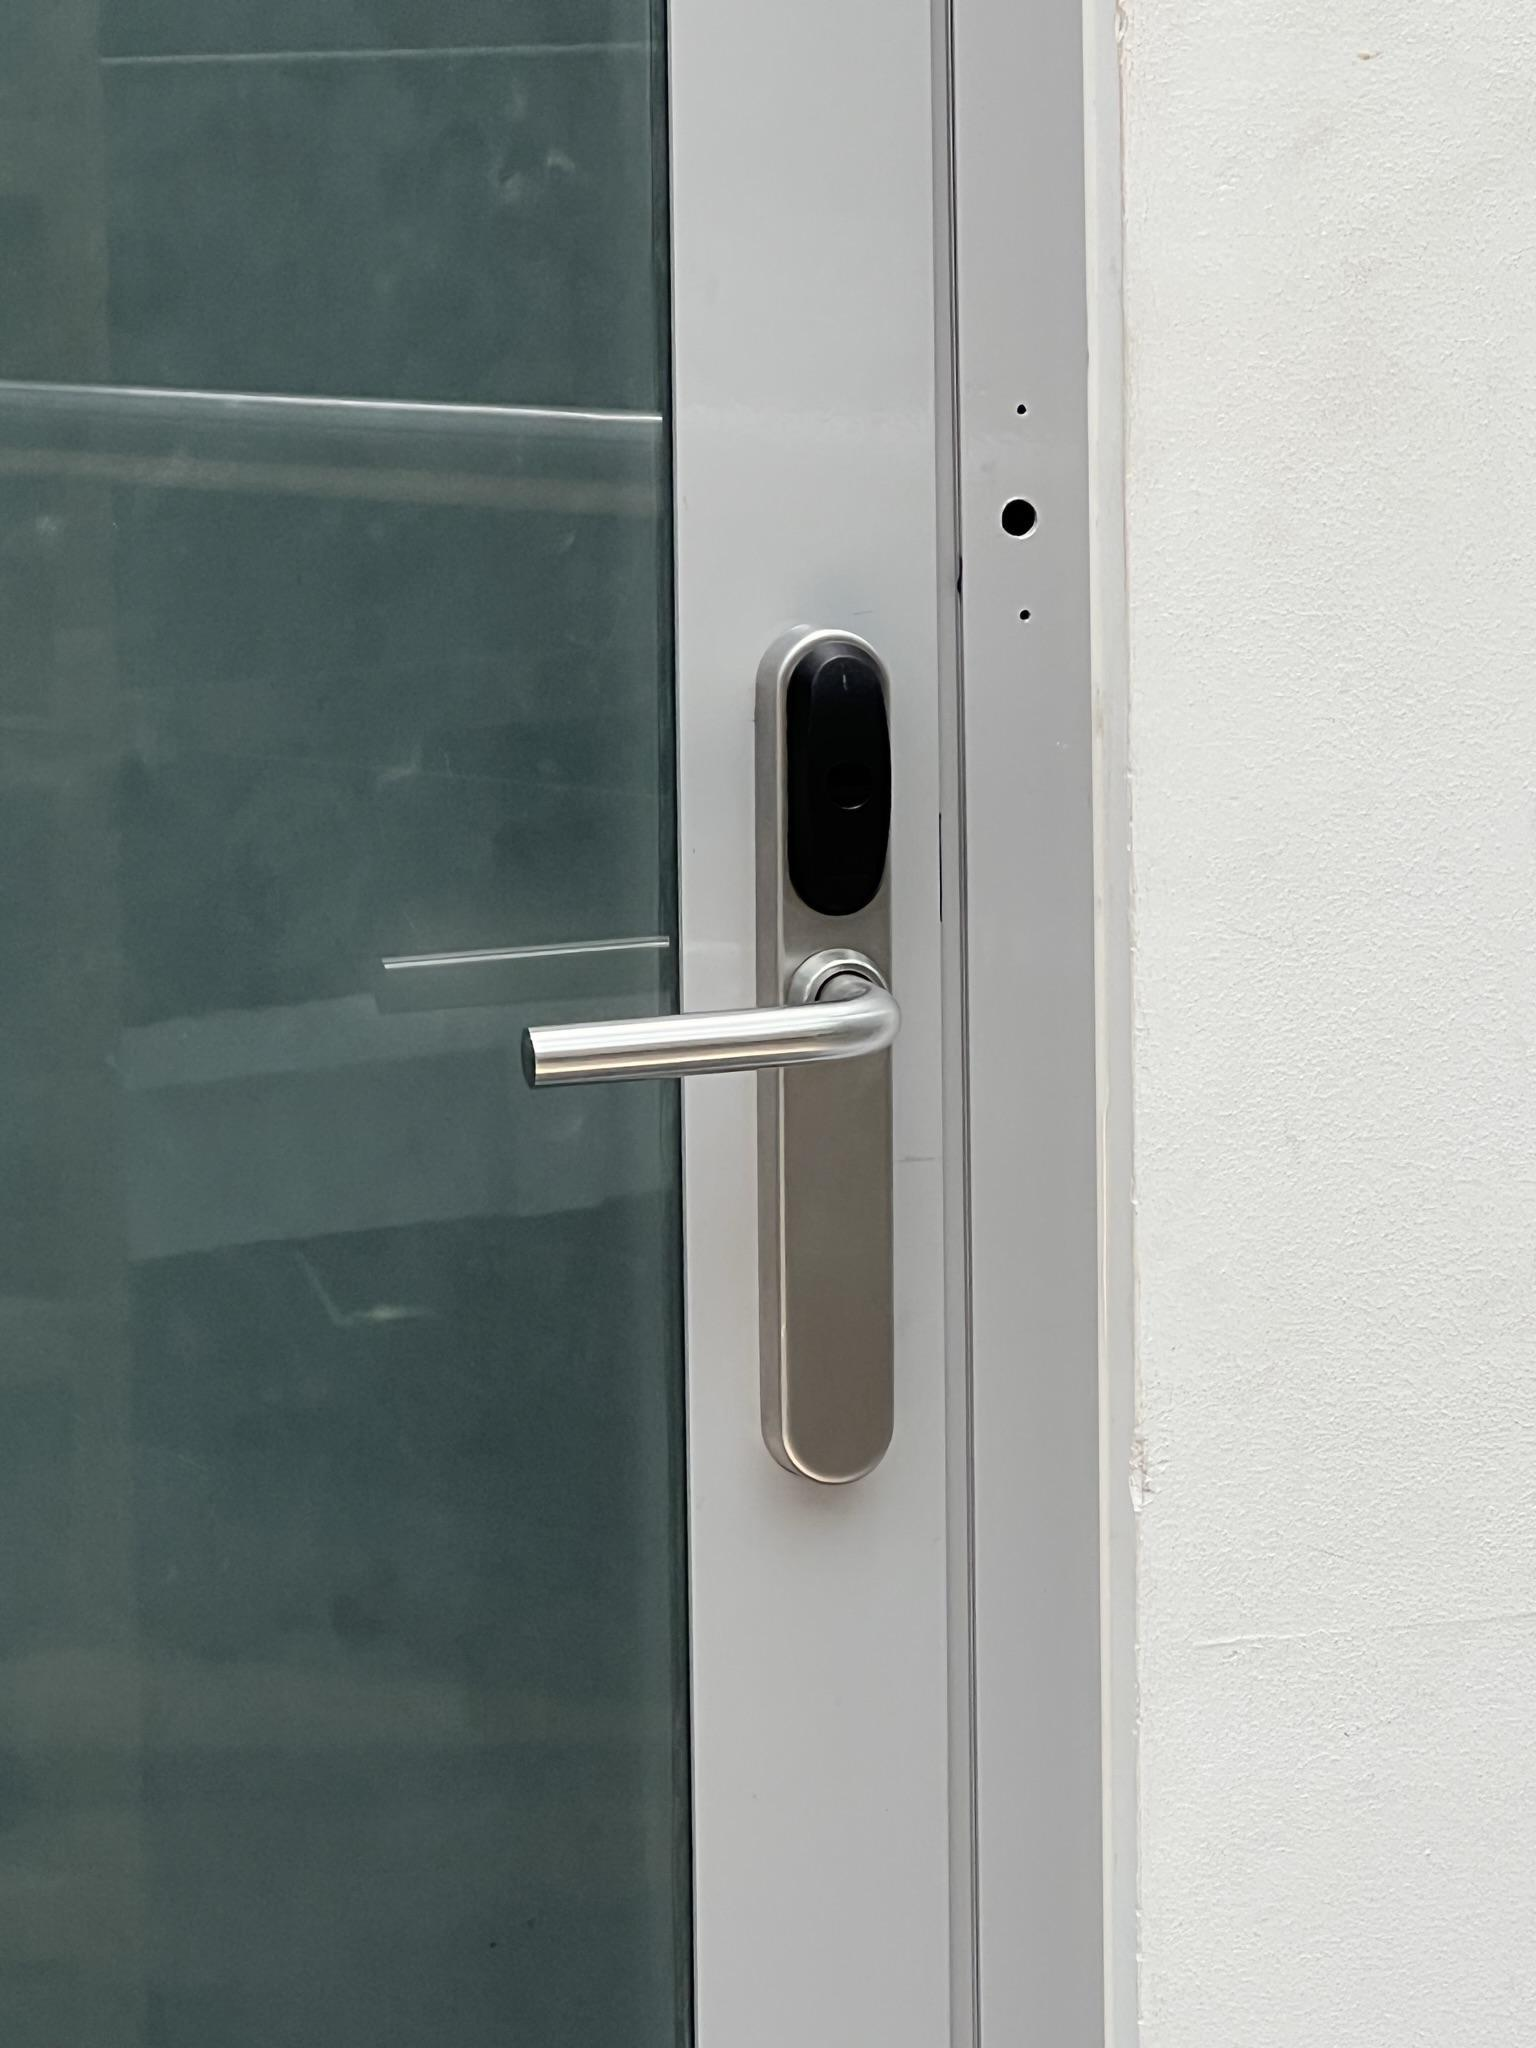door: (2, 16, 1121, 2030)
handle: (532, 611, 937, 1498)
